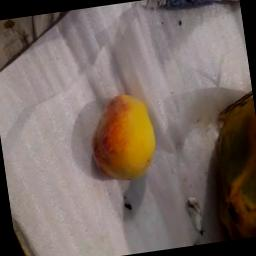Peach Unripe: (80, 85, 166, 189)
